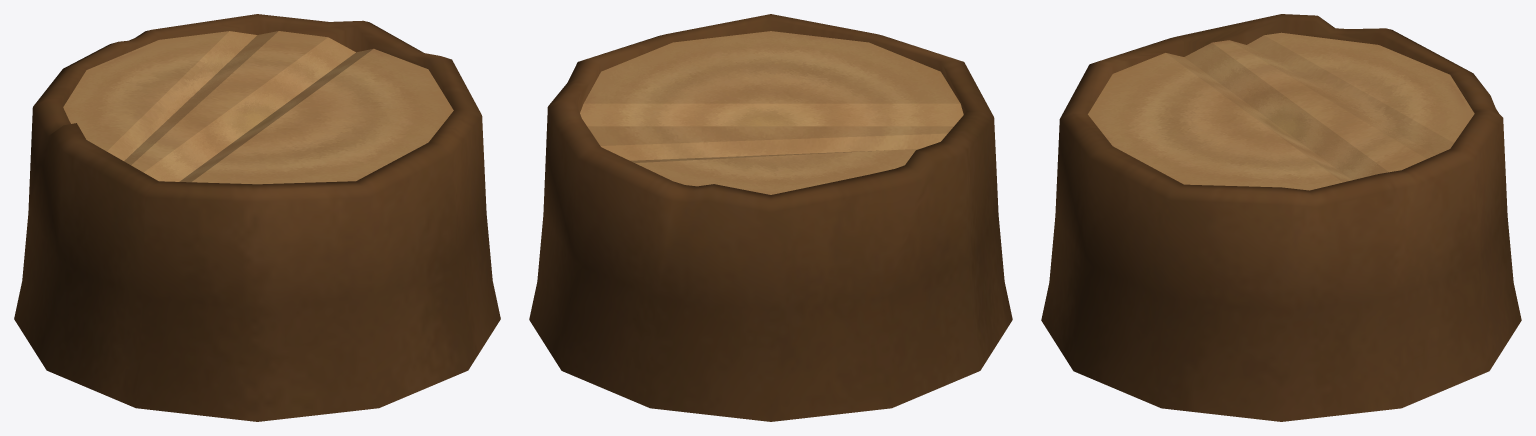
Rendered from Stump_1.glb.
3 views of the same model, side by side, from view 1: azimuth 30°, elevation 25°; view 2: azimuth 150°, elevation 25°; view 3: azimuth 270°, elevation 25° (orthographic).
Visible parts, largest first — view 1: Cylinder_081; view 2: Cylinder_081; view 3: Cylinder_081.
Part boxes in pixels (x1,y1,x2,y2): Cylinder_081: [14, 14, 500, 421]; Cylinder_081: [529, 14, 1012, 421]; Cylinder_081: [1041, 14, 1521, 421].
Bounding box in the file's own units: 0.4112 × 0.208 × 0.4112.
2 materials, 2 textured.
